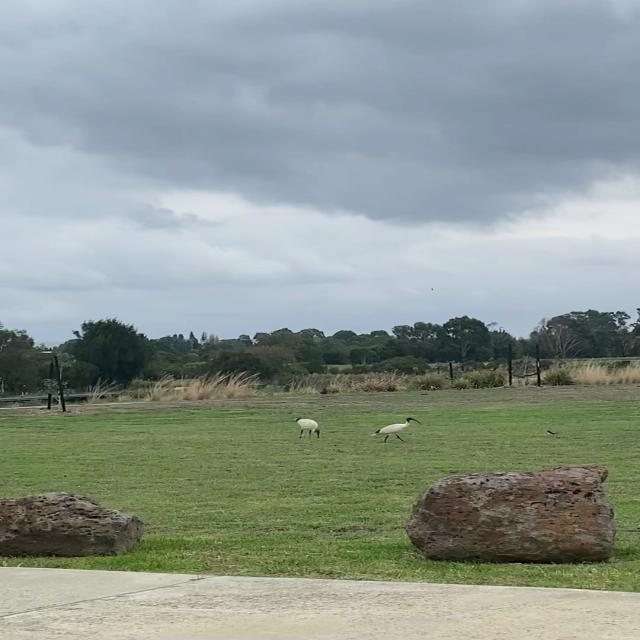Birds-Ibis: (366, 413, 425, 448), (290, 413, 326, 443)
